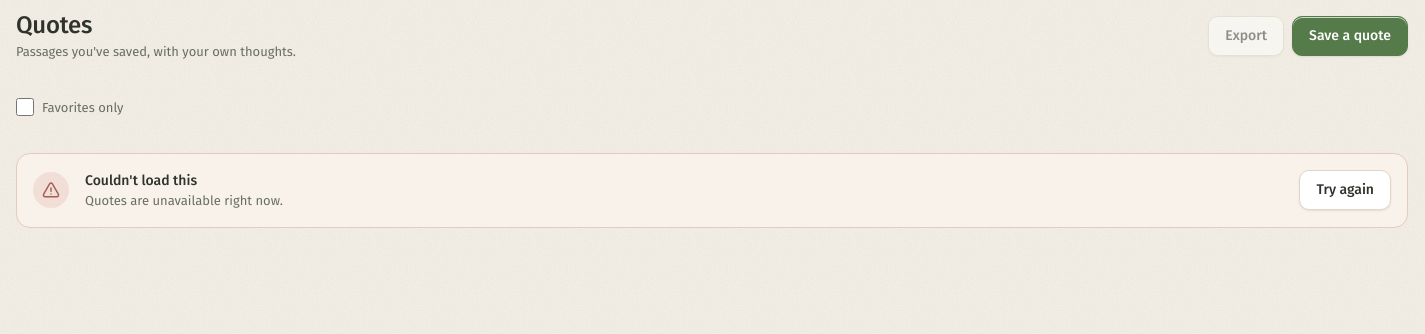
Test: QuotesPage › retries a failed listing
Expected: the message shows "Quotes are unavailable right now.", top-left (85, 193), bottom-right (283, 208)
Click the button "Try again": coordinates (1345, 190) top-left (1299, 170), bottom-right (1391, 210)
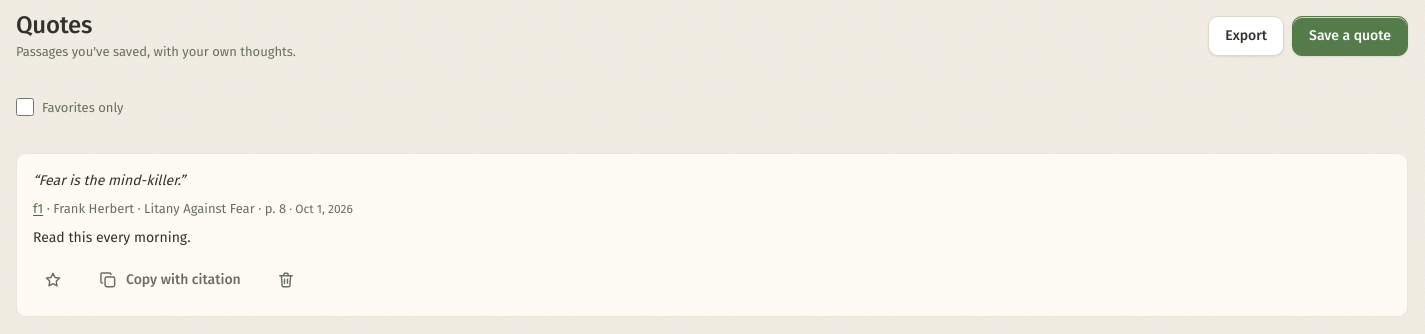
Expected: the list with test id "quotes-list" is shown, top-left (16, 153), bottom-right (1408, 316)
